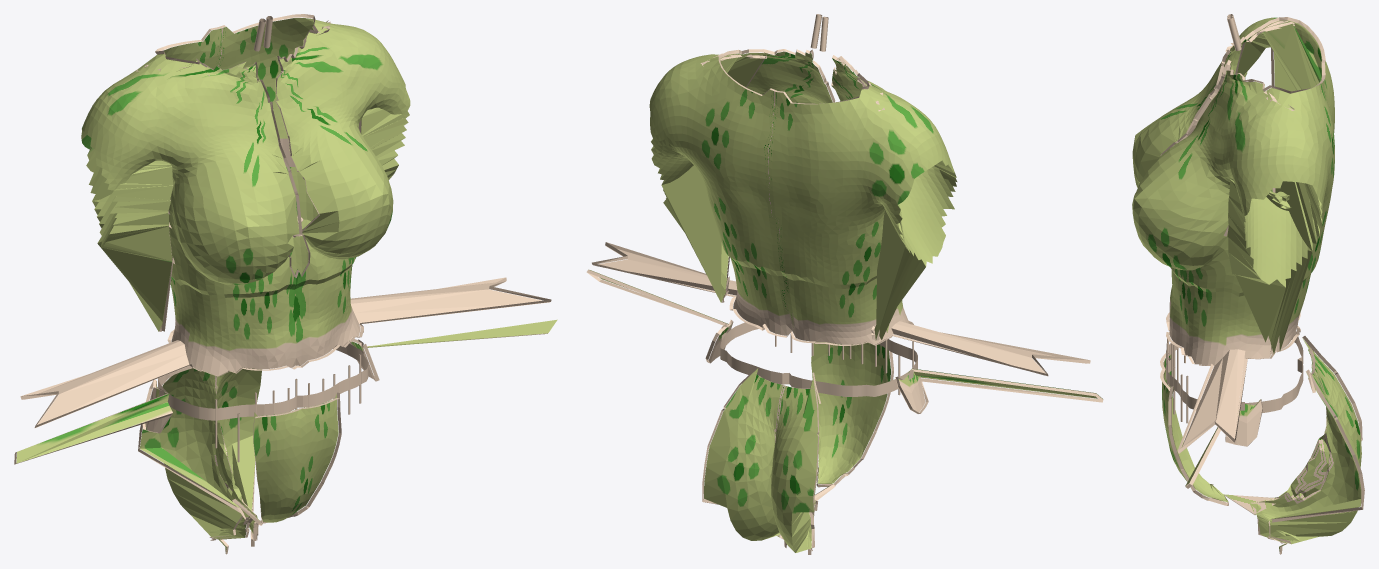
File: composite_floral.glb
The picture shows the model from 3 angles, left to right: view 1: azimuth 30°, elevation 25°; view 2: azimuth 150°, elevation 25°; view 3: azimuth 270°, elevation 25°; orthographic projection. The views are drawn at different scales.
Parts seen in each view (by area): view 1: world; view 2: world; view 3: world.
Boxes of the visible parts, x1,y1,x2,y2 form: world: (14,14,557,554); world: (586,14,1103,554); world: (1132,14,1364,554).
Size of the model in its own units: 70.92 by 68.56 by 27.09.
Materials: 1 (1 with a texture image).
